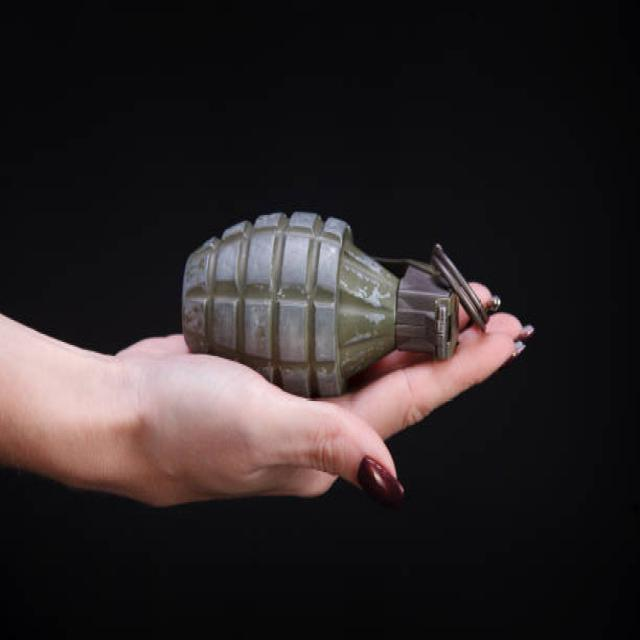grenade: (177, 212, 506, 405)
